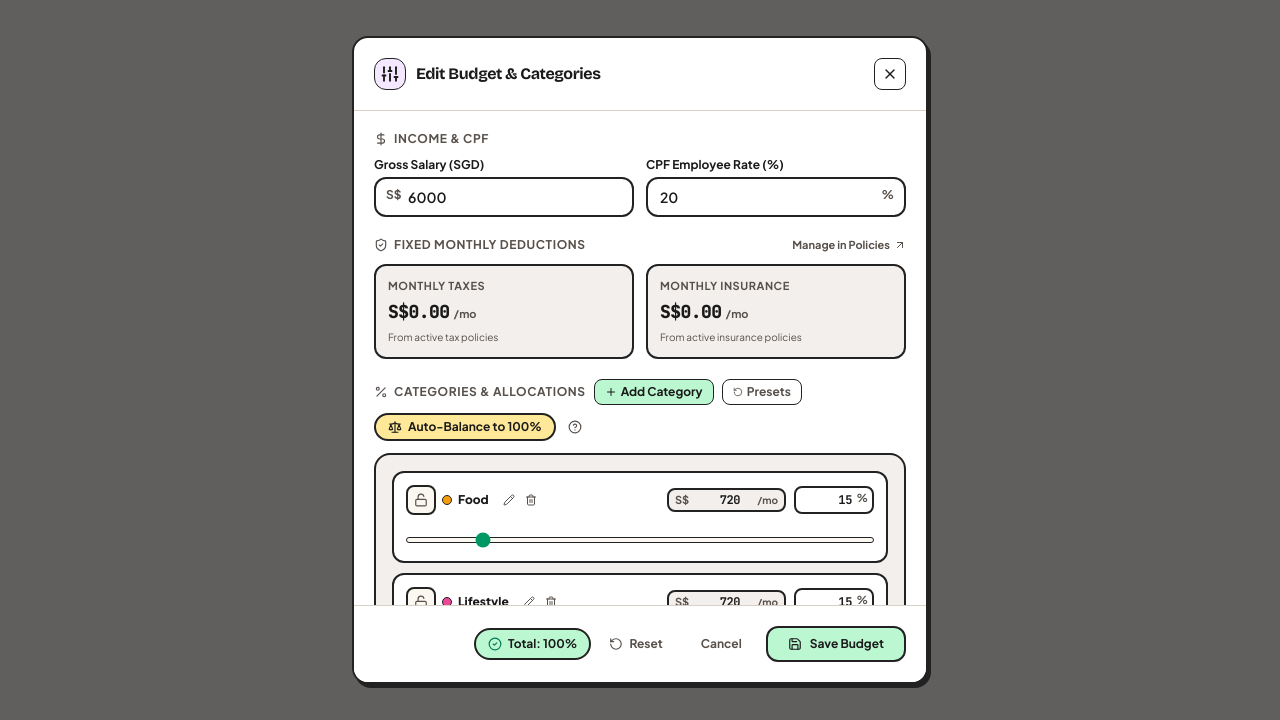
Test case: BaseProfileEditorModal › validates that category percentages must sum to 100%
// Find the food percentage input and change it from 15% to 50% so sum becomes 135%
Replace the text in the field labelled "Food" with "50" at [834, 500], box top-left (794, 486), bottom-right (874, 514)
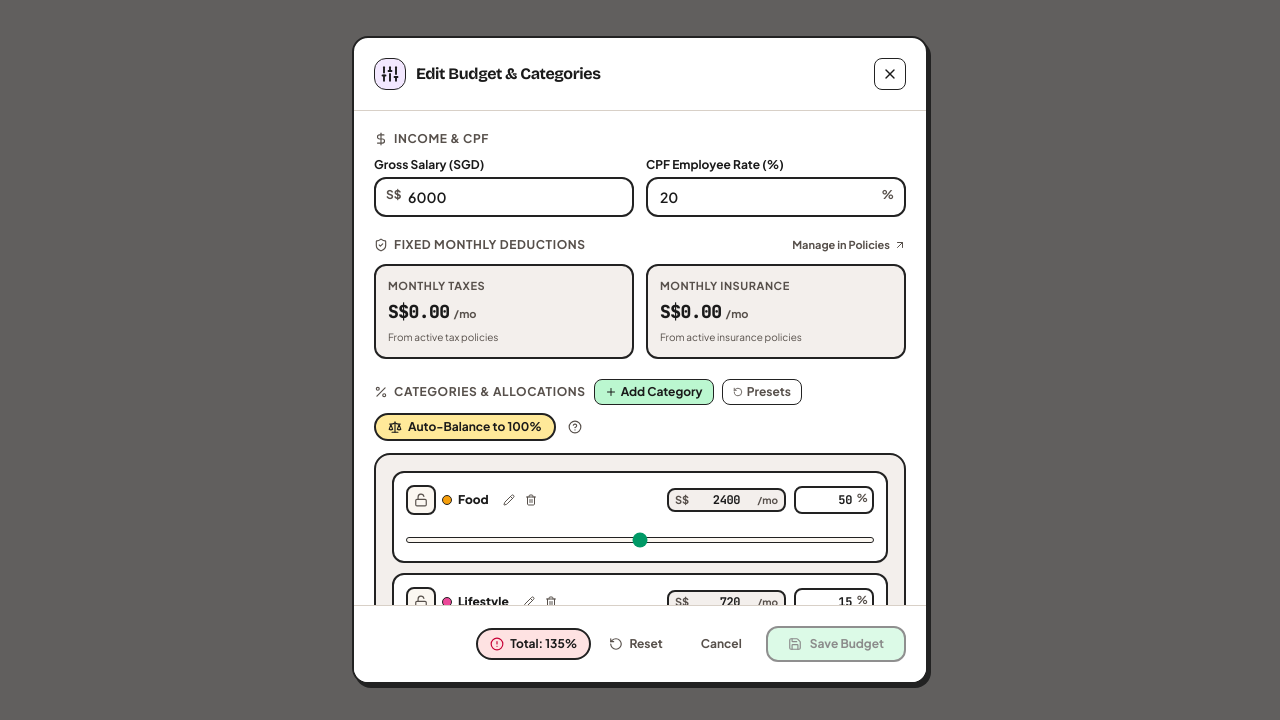
Check: the text "Total: 135%" is shown, box top-left (510, 636), bottom-right (577, 652)
Check: the button "Save Budget" is disabled, box top-left (766, 626), bottom-right (906, 662)
